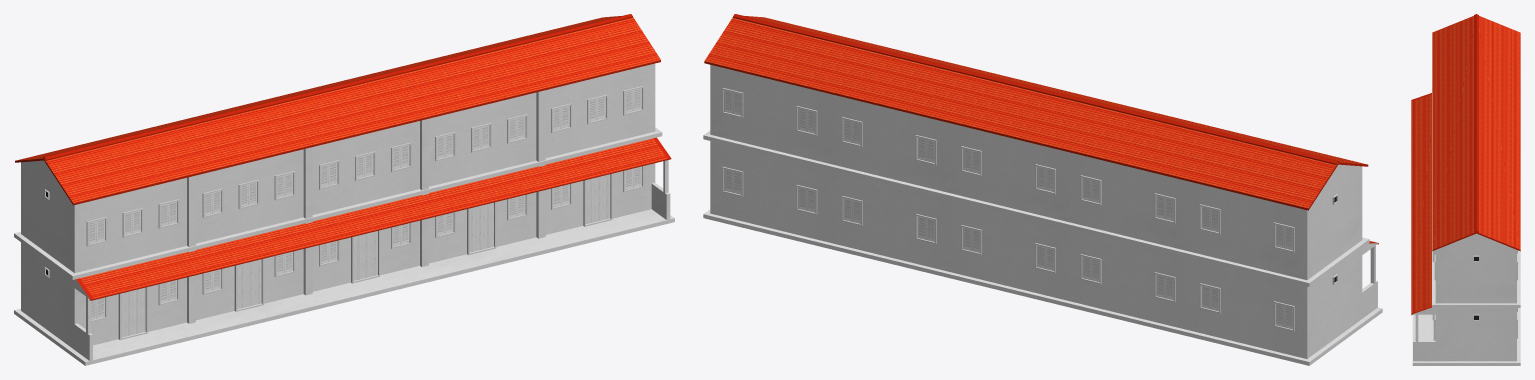
The model's file is Asrama.fbx.
3 views of the same model, side by side, from view 1: azimuth 30°, elevation 25°; view 2: azimuth 150°, elevation 25°; view 3: azimuth 270°, elevation 25° (orthographic). The views are drawn at different scales.
Visible parts, largest first — view 1: Cube; view 2: Cube; view 3: Cube.
Boxes of the visible parts, x1,y1,x2,y2 form: Cube: [14, 14, 674, 365]; Cube: [703, 14, 1382, 365]; Cube: [1411, 14, 1520, 365].
Size of the model in its own units: 25.38 by 7.31 by 5.37.
